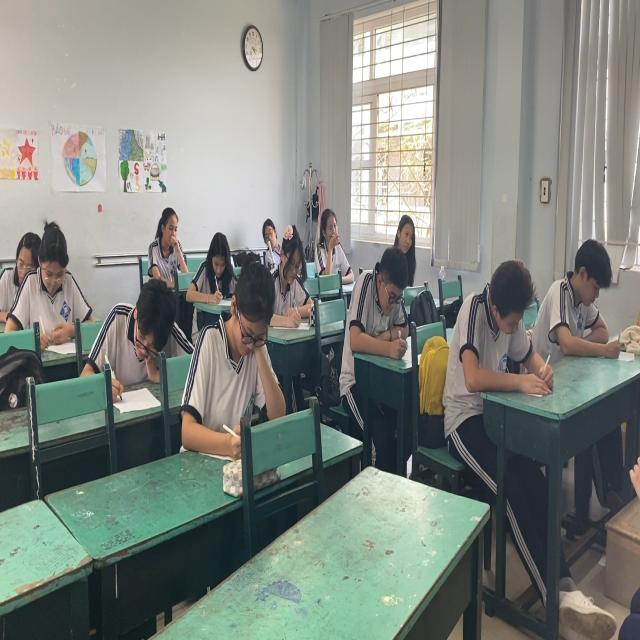not_cheating: (446, 248, 535, 396), (0, 209, 85, 347), (96, 276, 185, 396), (543, 231, 618, 372), (218, 248, 270, 431), (351, 238, 418, 362), (146, 200, 197, 282), (280, 227, 315, 327), (315, 200, 352, 276), (191, 231, 236, 283), (397, 210, 416, 269), (264, 223, 278, 247)
